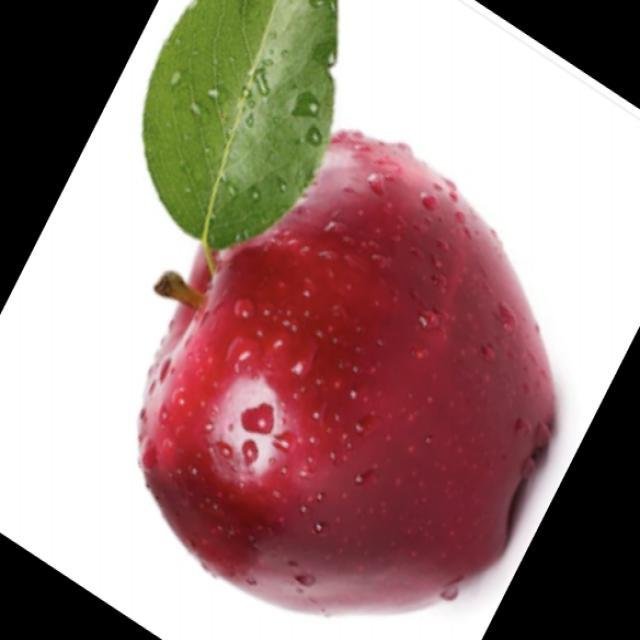Fresh Apple: (125, 141, 591, 640)
